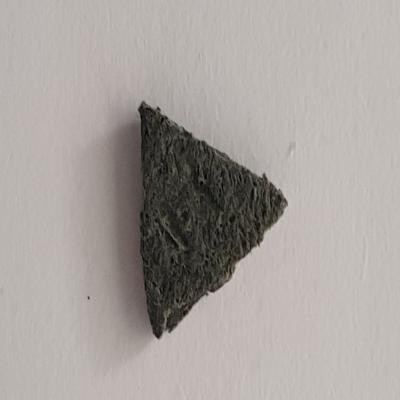plastic: (123, 96, 298, 347)
